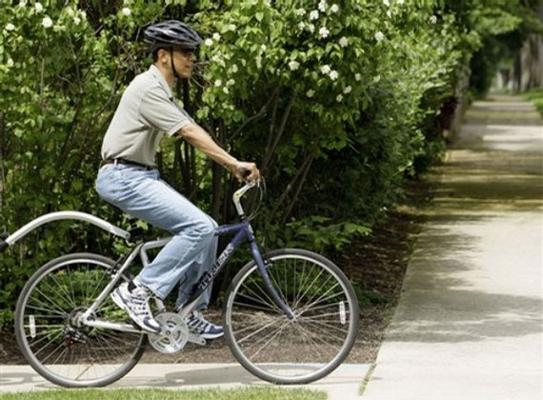person: (95, 19, 261, 343)
